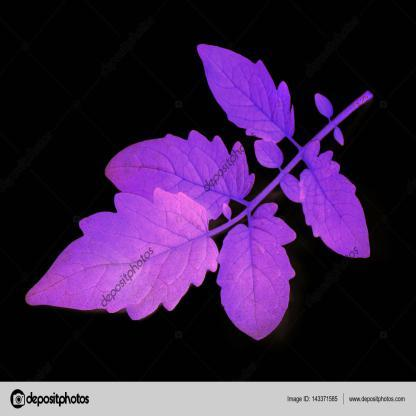Tomato leaf bacterial spot: (26, 190, 216, 320), (104, 124, 258, 230), (189, 30, 302, 151), (212, 200, 298, 348), (296, 146, 378, 268)
